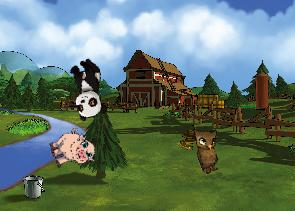owl: (188, 122, 230, 175)
panda: (65, 56, 109, 121)
pig: (45, 124, 98, 175)
